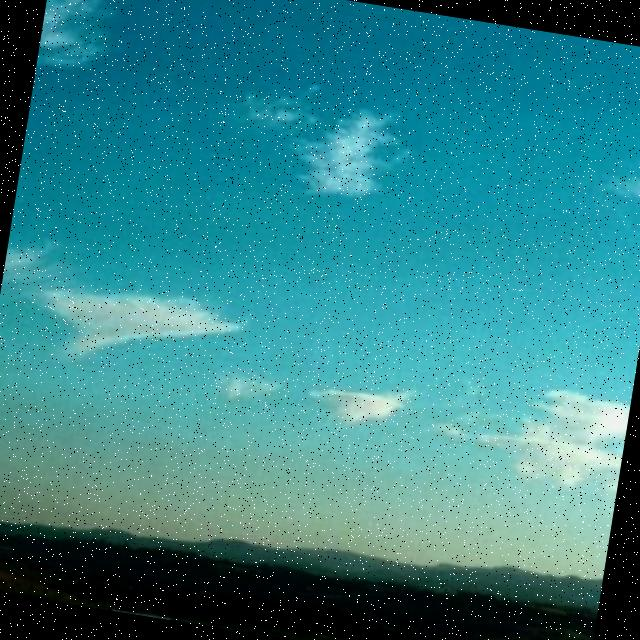Ci: (1, 32, 640, 520)
